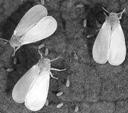whitefly: (12, 50, 61, 113), (1, 4, 56, 56), (92, 6, 128, 66)
